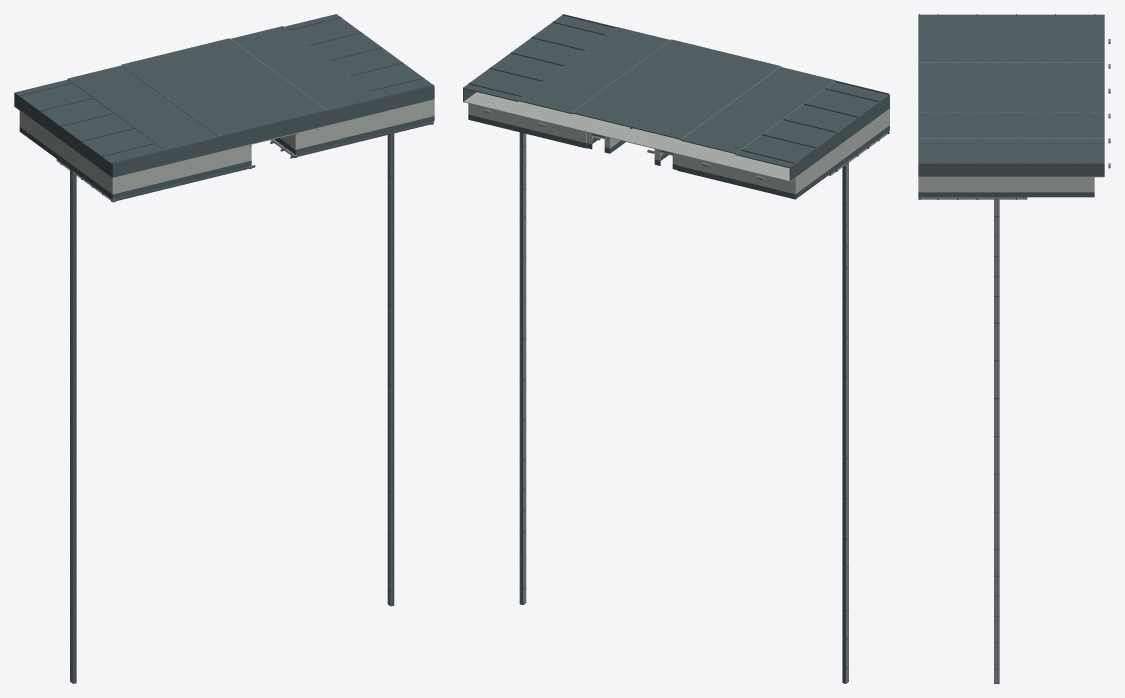
The model's file is AST-CMD-002.glb.
The picture shows the model from 3 angles, left to right: view 1: azimuth 30°, elevation 25°; view 2: azimuth 150°, elevation 25°; view 3: azimuth 270°, elevation 25°; orthographic projection. The views are drawn at different scales.
Visible parts, largest first — view 1: AFC_CELL_X-3_Y9_Z6_ASTRAEA_staff_bluegrey_paint, AFC_CELL_X-3_Y9_Z7_ASTRAEA_staff_bluegrey_paint, AFC_CELL_X-3_Y9_Z8_ASTRAEA_staff_bluegrey_paint, AFC_CELL_X0_Y9_Z8_ASTRAEA_staff_bluegrey_paint, AFC_CELL_X-1_Y9_Z8_ASTRAEA_staff_bluegrey_paint, AFC_CELL_X0_Y9_Z7_ASTRAEA_staff_bluegrey_paint, AFC_CELL_X0_Y9_Z6_ASTRAEA_staff_bluegrey_paint, AFC_CELL_X-1_Y9_Z7_ASTRAEA_staff_bluegrey_paint, AFC_CELL_X-2_Y9_Z7_ASTRAEA_staff_bluegrey_paint, AFC_CELL_X-1_Y9_Z6_ASTRAEA_staff_bluegrey_paint, AFC_CELL_X-2_Y9_Z6_ASTRAEA_staff_bluegrey_paint, AFC_CELL_X2_Y9_Z6_ASTRAEA_staff_bluegrey_paint (+17 smaller); view 2: AFC_CELL_X-3_Y9_Z7_ASTRAEA_staff_bluegrey_paint, AFC_CELL_X-3_Y9_Z6_ASTRAEA_staff_bluegrey_paint, AFC_CELL_X0_Y9_Z7_ASTRAEA_staff_bluegrey_paint, AFC_CELL_X-1_Y9_Z6_ASTRAEA_staff_bluegrey_paint, AFC_CELL_X-1_Y9_Z7_ASTRAEA_staff_bluegrey_paint, AFC_CELL_X0_Y9_Z6_ASTRAEA_staff_bluegrey_paint, AFC_CELL_X-2_Y9_Z7_ASTRAEA_staff_bluegrey_paint, AFC_CELL_X-2_Y9_Z6_ASTRAEA_staff_bluegrey_paint, AFC_CELL_X2_Y9_Z6_ASTRAEA_staff_bluegrey_paint, AFC_CELL_X2_Y9_Z7_ASTRAEA_staff_bluegrey_paint, AFC_CELL_X1_Y9_Z7_ASTRAEA_staff_bluegrey_paint, AFC_CELL_X1_Y9_Z6_ASTRAEA_staff_bluegrey_paint (+18 smaller); view 3: AFC_CELL_X2_Y9_Z6_ASTRAEA_staff_bluegrey_paint, AFC_CELL_X2_Y9_Z7_ASTRAEA_staff_bluegrey_paint, AFC_CELL_X-1_Y9_Z6_ASTRAEA_staff_bluegrey_paint, AFC_CELL_X0_Y9_Z6_ASTRAEA_staff_bluegrey_paint, AFC_CELL_X-1_Y9_Z7_ASTRAEA_staff_bluegrey_paint, AFC_CELL_X2_Y9_Z5_ASTRAEA_staff_bluegrey_paint, AFC_CELL_X0_Y9_Z7_ASTRAEA_staff_bluegrey_paint, AFC_CELL_X1_Y9_Z6_ASTRAEA_staff_bluegrey_paint, AFC_CELL_X-3_Y9_Z6_ASTRAEA_staff_bluegrey_paint, AFC_CELL_X-2_Y9_Z6_ASTRAEA_staff_bluegrey_paint, AFC_CELL_X-3_Y9_Z7_ASTRAEA_staff_bluegrey_paint, AFC_CELL_X-2_Y9_Z7_ASTRAEA_staff_bluegrey_paint (+27 smaller).
Boxes of the visible parts, box(x1,y1,x2,y2) form: AFC_CELL_X-3_Y9_Z6_ASTRAEA_staff_bluegrey_paint: box(35, 94, 118, 143); AFC_CELL_X-3_Y9_Z7_ASTRAEA_staff_bluegrey_paint: box(66, 117, 149, 165); AFC_CELL_X-3_Y9_Z8_ASTRAEA_staff_bluegrey_paint: box(97, 140, 166, 177); AFC_CELL_X0_Y9_Z8_ASTRAEA_staff_bluegrey_paint: box(258, 99, 327, 138); AFC_CELL_X-1_Y9_Z8_ASTRAEA_staff_bluegrey_paint: box(205, 112, 273, 151); AFC_CELL_X0_Y9_Z7_ASTRAEA_staff_bluegrey_paint: box(227, 76, 311, 111); AFC_CELL_X0_Y9_Z6_ASTRAEA_staff_bluegrey_paint: box(196, 53, 280, 88); AFC_CELL_X-1_Y9_Z7_ASTRAEA_staff_bluegrey_paint: box(174, 89, 257, 124); AFC_CELL_X-2_Y9_Z7_ASTRAEA_staff_bluegrey_paint: box(120, 103, 203, 138); AFC_CELL_X-1_Y9_Z6_ASTRAEA_staff_bluegrey_paint: box(143, 66, 226, 102); AFC_CELL_X-2_Y9_Z6_ASTRAEA_staff_bluegrey_paint: box(89, 80, 172, 116); AFC_CELL_X2_Y9_Z6_ASTRAEA_staff_bluegrey_paint: box(305, 29, 387, 64); AFC_CELL_X-3_Y9_Z7_ASTRAEA_staff_bluegrey_paint: box(789, 93, 874, 142); AFC_CELL_X-3_Y9_Z6_ASTRAEA_staff_bluegrey_paint: box(757, 116, 842, 165); AFC_CELL_X0_Y9_Z7_ASTRAEA_staff_bluegrey_paint: box(625, 51, 710, 87); AFC_CELL_X-1_Y9_Z6_ASTRAEA_staff_bluegrey_paint: box(648, 87, 732, 123); AFC_CELL_X-1_Y9_Z7_ASTRAEA_staff_bluegrey_paint: box(679, 64, 764, 100); AFC_CELL_X0_Y9_Z6_ASTRAEA_staff_bluegrey_paint: box(593, 74, 678, 110); AFC_CELL_X-2_Y9_Z7_ASTRAEA_staff_bluegrey_paint: box(734, 78, 819, 114); AFC_CELL_X-2_Y9_Z6_ASTRAEA_staff_bluegrey_paint: box(703, 101, 787, 137); AFC_CELL_X2_Y9_Z6_ASTRAEA_staff_bluegrey_paint: box(484, 49, 568, 85); AFC_CELL_X2_Y9_Z7_ASTRAEA_staff_bluegrey_paint: box(516, 26, 599, 62); AFC_CELL_X1_Y9_Z7_ASTRAEA_staff_bluegrey_paint: box(570, 38, 654, 74); AFC_CELL_X1_Y9_Z6_ASTRAEA_staff_bluegrey_paint: box(539, 61, 622, 97); AFC_CELL_X2_Y9_Z6_ASTRAEA_staff_bluegrey_paint: box(1006, 138, 1065, 176); AFC_CELL_X2_Y9_Z7_ASTRAEA_staff_bluegrey_paint: box(948, 138, 1006, 176); AFC_CELL_X-1_Y9_Z6_ASTRAEA_staff_bluegrey_paint: box(1006, 62, 1065, 87); AFC_CELL_X0_Y9_Z6_ASTRAEA_staff_bluegrey_paint: box(1006, 87, 1065, 112); AFC_CELL_X-1_Y9_Z7_ASTRAEA_staff_bluegrey_paint: box(948, 62, 1006, 87); AFC_CELL_X2_Y9_Z5_ASTRAEA_staff_bluegrey_paint: box(1065, 138, 1104, 176); AFC_CELL_X0_Y9_Z7_ASTRAEA_staff_bluegrey_paint: box(948, 87, 1006, 112); AFC_CELL_X1_Y9_Z6_ASTRAEA_staff_bluegrey_paint: box(1006, 113, 1065, 137); AFC_CELL_X-3_Y9_Z6_ASTRAEA_staff_bluegrey_paint: box(1006, 14, 1065, 38); AFC_CELL_X-2_Y9_Z6_ASTRAEA_staff_bluegrey_paint: box(1006, 38, 1065, 62); AFC_CELL_X-3_Y9_Z7_ASTRAEA_staff_bluegrey_paint: box(948, 14, 1006, 38); AFC_CELL_X-2_Y9_Z7_ASTRAEA_staff_bluegrey_paint: box(948, 38, 1006, 62).
Bounding box in the file's own units: 72 × 118 × 39.21.
Materials: 4 (4 with a texture image).
